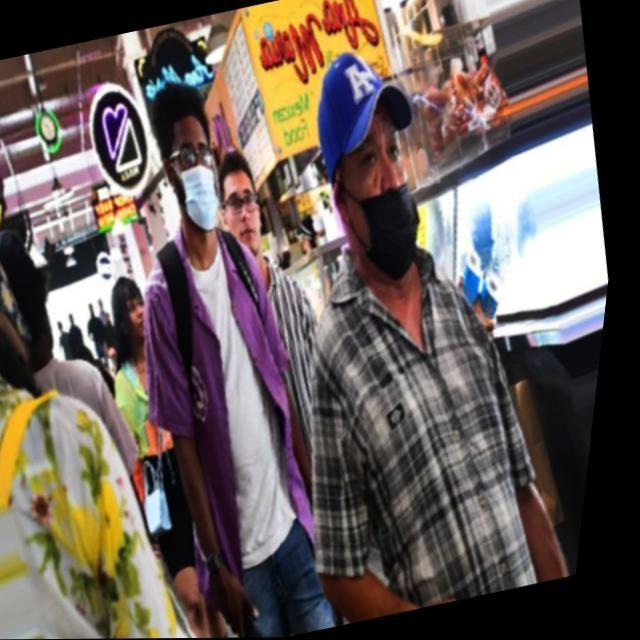hairnet: (339, 140, 441, 286)
